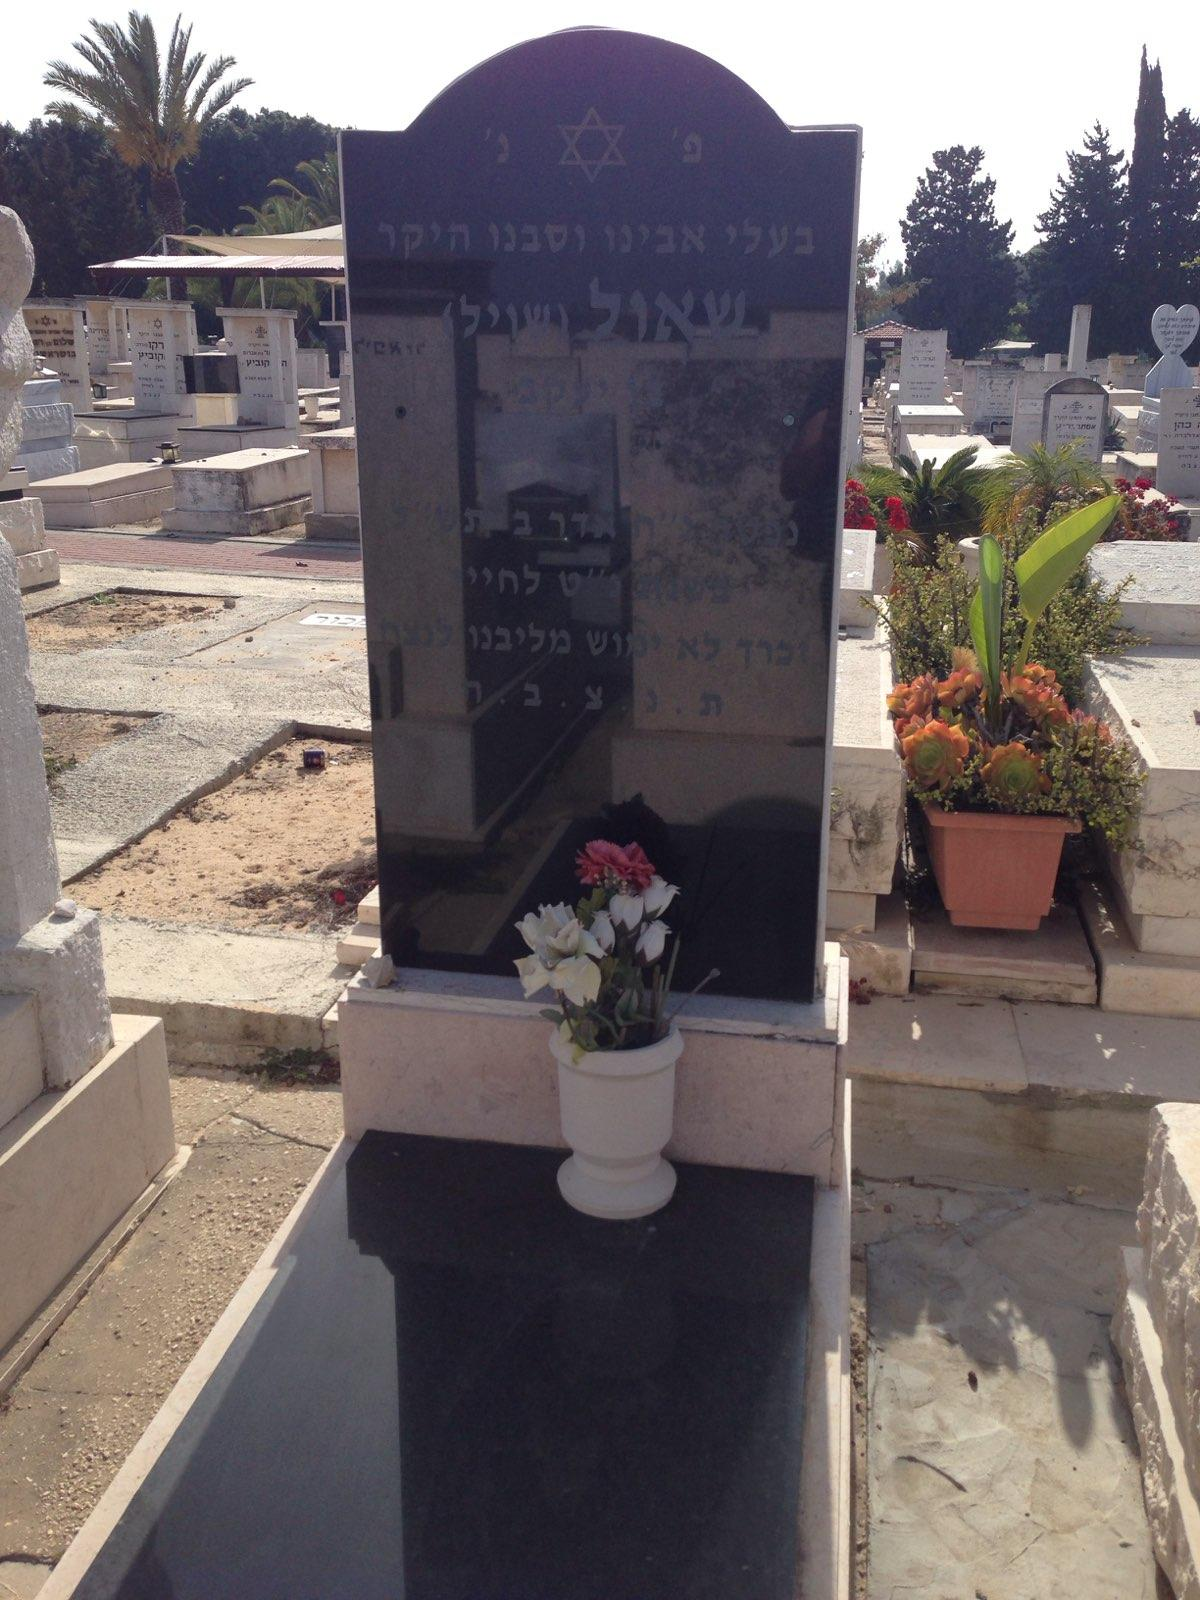vault: (38, 14, 871, 1592)
